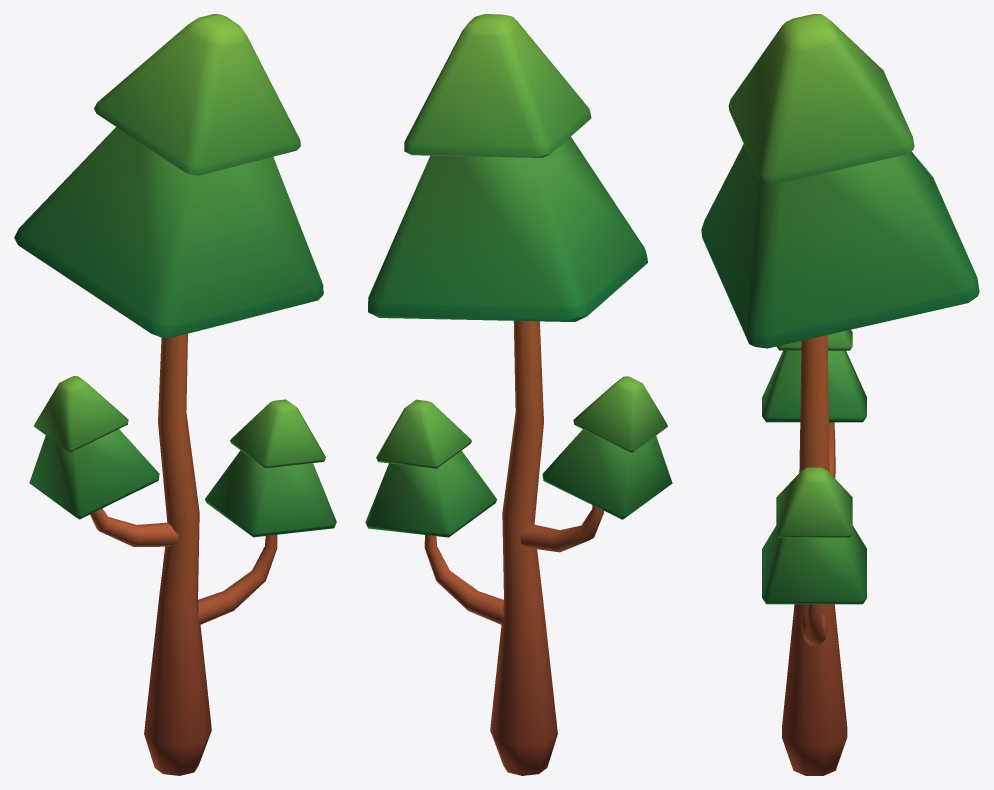
The model's file is Tree_4_B_Color1.glb.
3 views of the same model, side by side, from view 1: azimuth 30°, elevation 25°; view 2: azimuth 150°, elevation 25°; view 3: azimuth 270°, elevation 25° (orthographic). The views are drawn at different scales.
Visible parts, largest first — view 1: Tree_4_B_Color1; view 2: Tree_4_B_Color1; view 3: Tree_4_B_Color1.
Boxes of the visible parts, x1,y1,x2,y2 form: Tree_4_B_Color1: [14, 14, 336, 775]; Tree_4_B_Color1: [365, 14, 672, 775]; Tree_4_B_Color1: [701, 14, 979, 775].
Bounding box in the file's own units: 2.57 × 6.94 × 2.27.
1 material, 1 textured.
